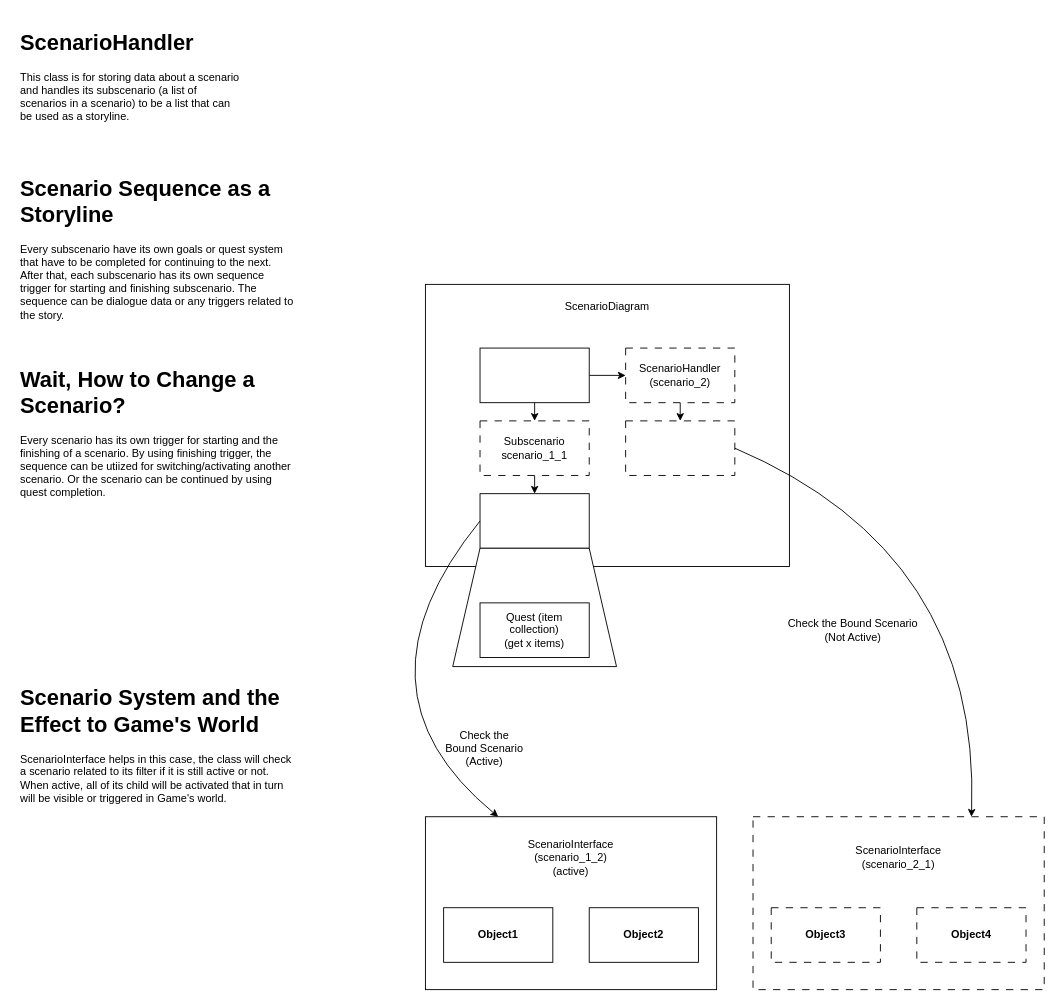
Image size: 1060x1006. Some labels were removed from this diagram. The centre of each missing label's shape, as x and y in pixels:
"ScenarioHandler (scenario_1) (currently active)" belongs at [534,375].
"Subscenario scenario_1_2 (currently active)" belongs at [534,520].
"Subscenario scenario_2_1" belongs at [680,447].
